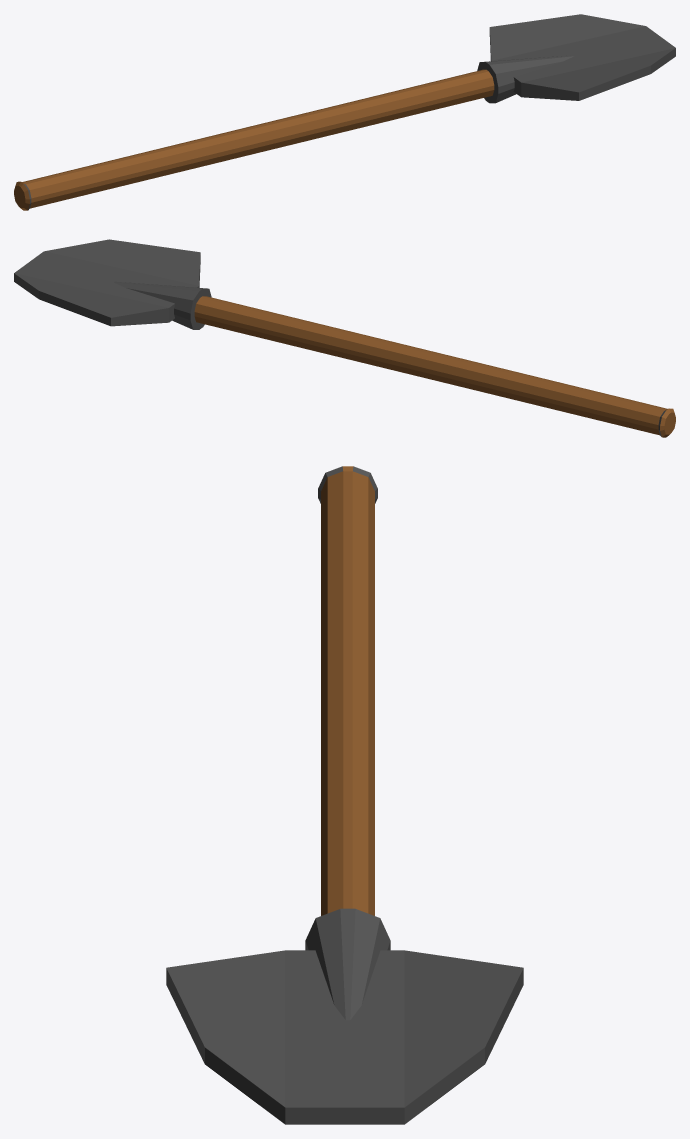
The picture shows the model from 3 angles, top to bottom: view 1: azimuth 30°, elevation 25°; view 2: azimuth 150°, elevation 25°; view 3: azimuth 270°, elevation 25°; orthographic projection. The views are drawn at different scales.
Parts seen in each view (by area): view 1: F-24; view 2: F-24; view 3: F-24.
Part boxes in pixels (bbox=[...]): F-24: bbox=[14, 14, 675, 210]; F-24: bbox=[14, 239, 675, 437]; F-24: bbox=[166, 466, 523, 1124].
Size of the model in its own units: 354 by 20.4 by 85.63.
